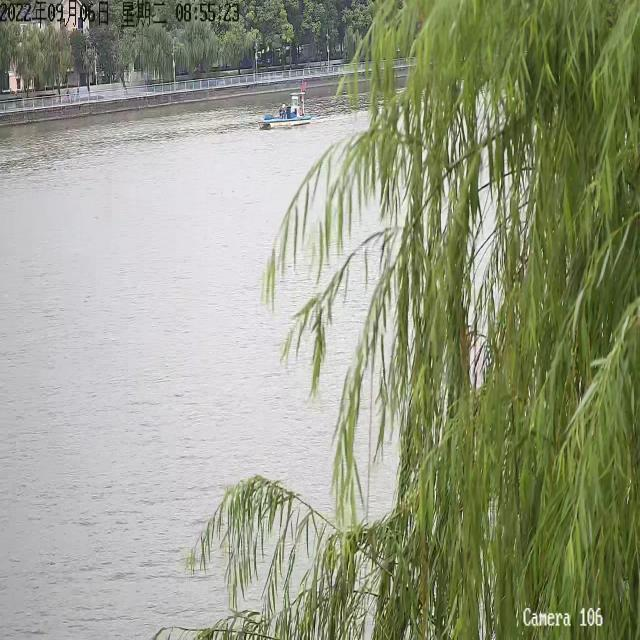ship: (257, 82, 311, 128)
